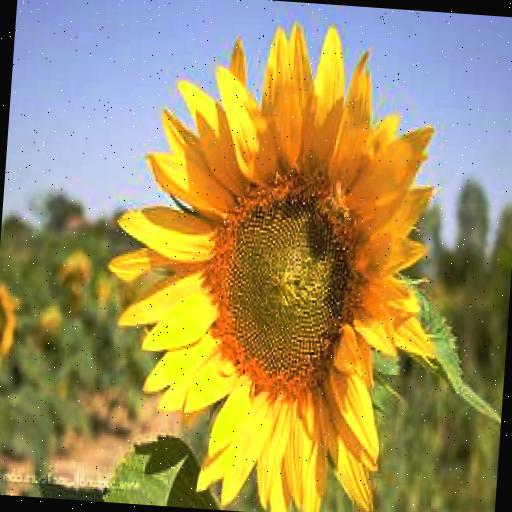sunflower: (95, 9, 442, 512)
